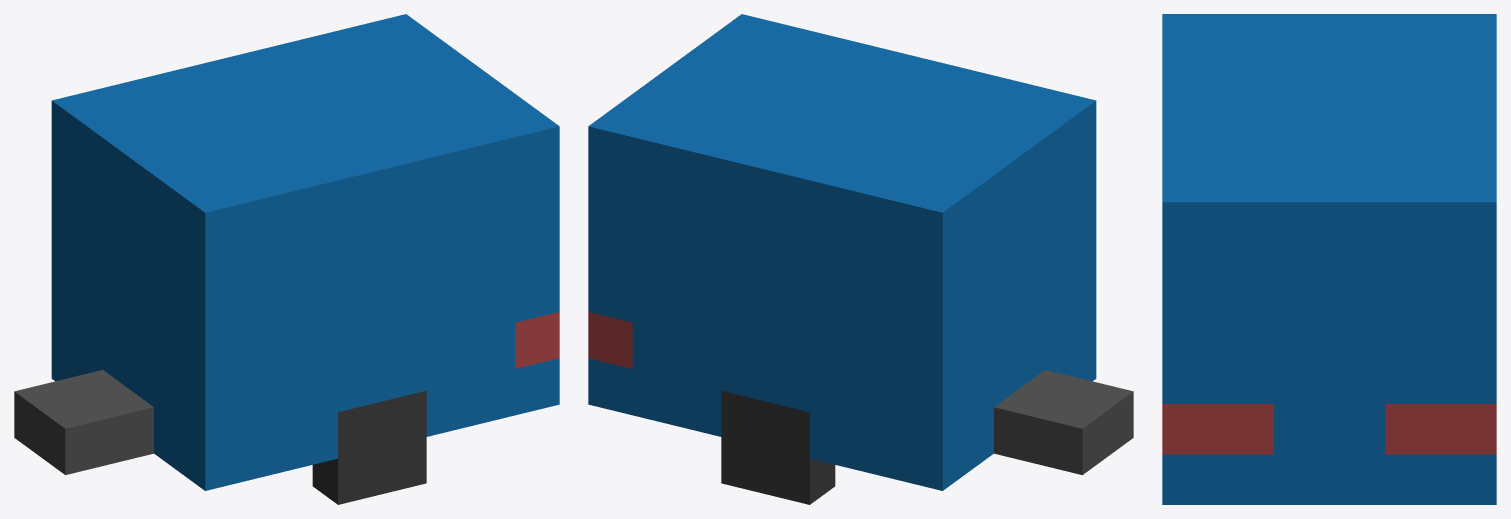
The model's file is car-trailer-v2-blue.gltf.
3 renders of one model, left to right at view 1: azimuth 30°, elevation 25°; view 2: azimuth 150°, elevation 25°; view 3: azimuth 270°, elevation 25°, orthographic. The views are drawn at different scales.
Parts seen in each view (by area): view 1: model, wheels; view 2: model, wheels; view 3: model.
Part boxes in pixels (bbox=[...]): model: bbox=[14, 14, 559, 490]; wheels: bbox=[312, 390, 426, 504]; model: bbox=[588, 14, 1133, 490]; wheels: bbox=[721, 390, 835, 504]; model: bbox=[1162, 14, 1496, 504].
Bounding box in the file's own units: 1 × 0.7 × 0.6.
2 materials, 2 textured.
